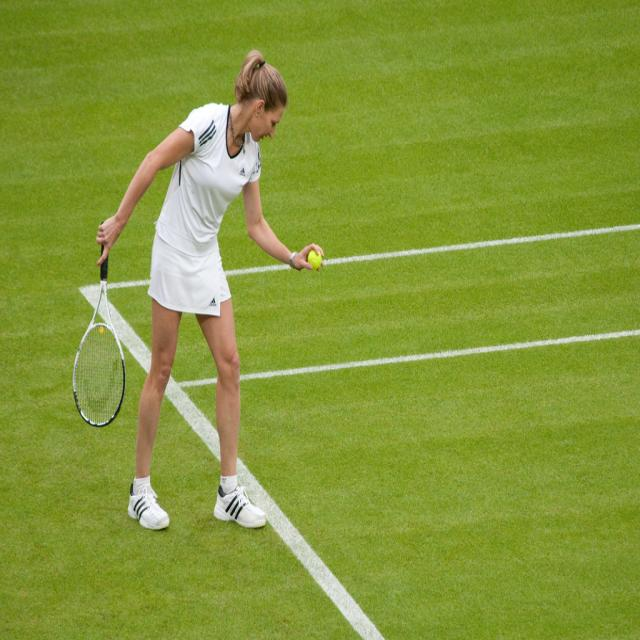Tennis ball: (305, 248, 321, 268)
